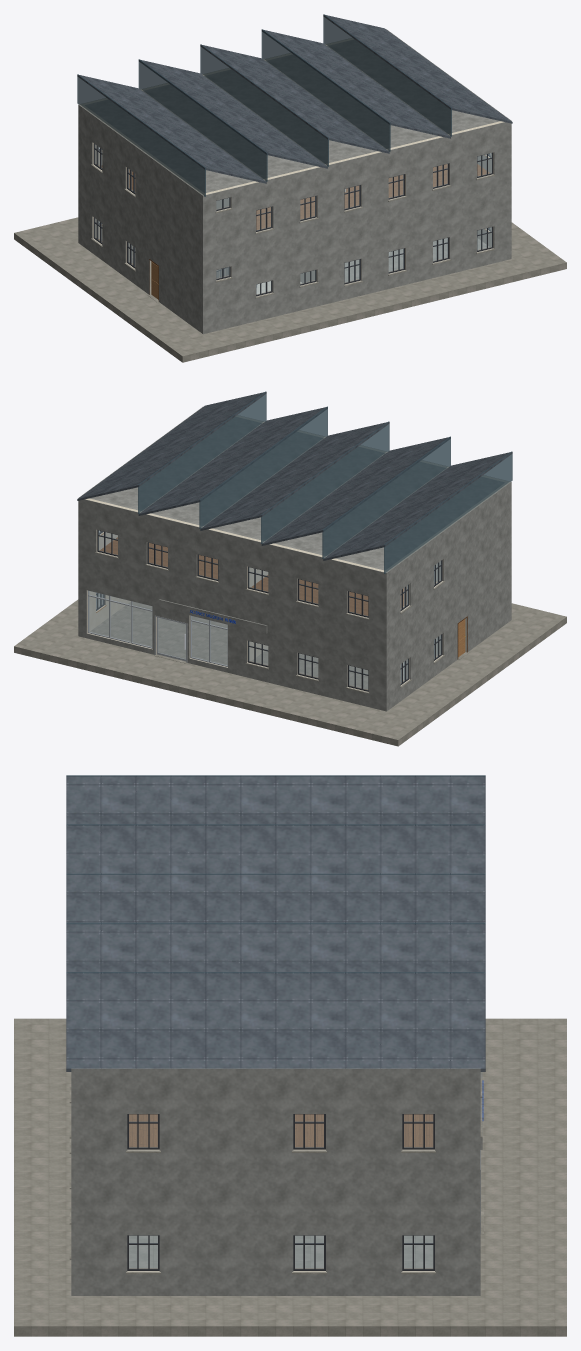
The model's file is b_science_museum.gltf.
3 views of the same model, one above another, from view 1: azimuth 30°, elevation 25°; view 2: azimuth 150°, elevation 25°; view 3: azimuth 270°, elevation 25° (orthographic). The views are drawn at different scales.
Visible parts, largest first — view 1: S_science_museum; view 2: S_science_museum, D_science_museum_F1_S5_Door0; view 3: S_science_museum.
Boxes of the visible parts, x1=… form: S_science_museum: x1=14, y1=14, x2=566, y2=362; S_science_museum: x1=14, y1=391, x2=566, y2=746; D_science_museum_F1_S5_Door0: x1=156, y1=617, x2=186, y2=661; S_science_museum: x1=14, y1=775, x2=566, y2=1336.
Size of the model in its own units: 25 by 10.8 by 19.
Materials: 19 (10 with a texture image).
